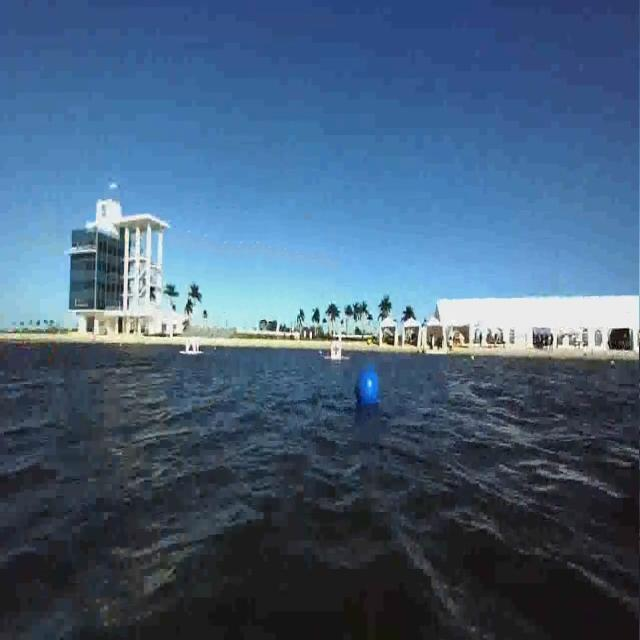blue-buoy: (355, 366, 378, 409)
